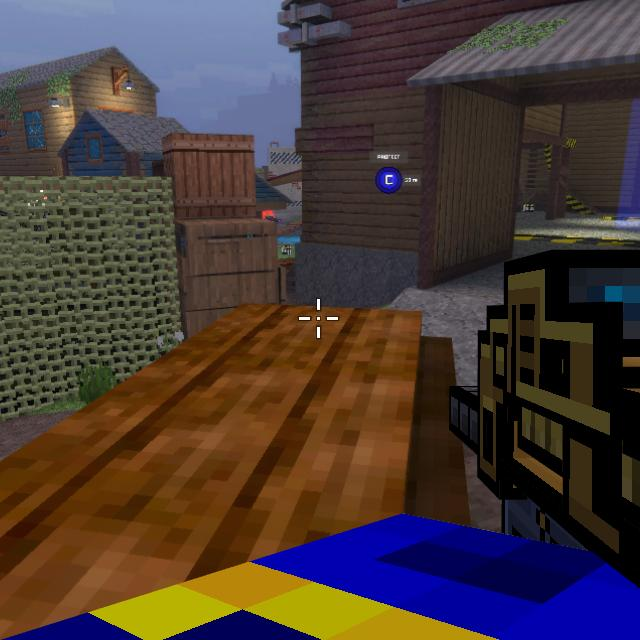Enemy: (265, 213, 276, 220)
